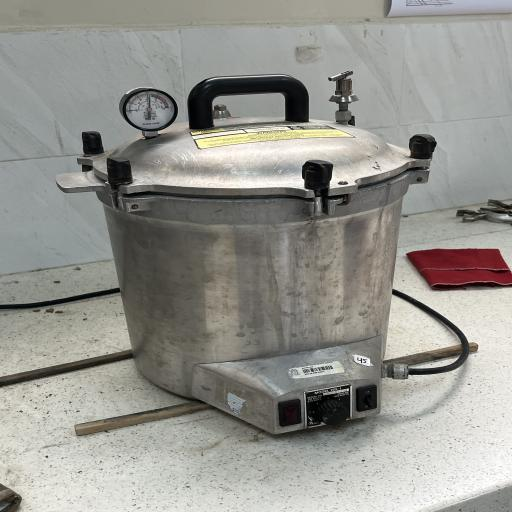Autoclave: (48, 60, 459, 444)
